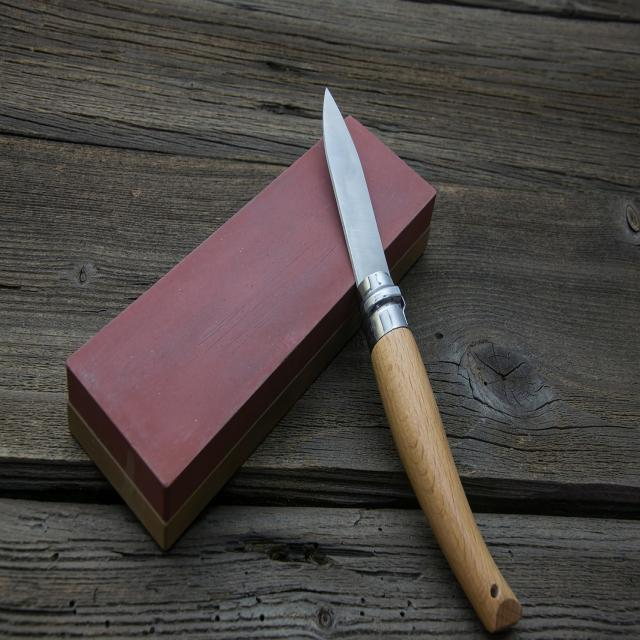knife: (321, 86, 522, 626)
